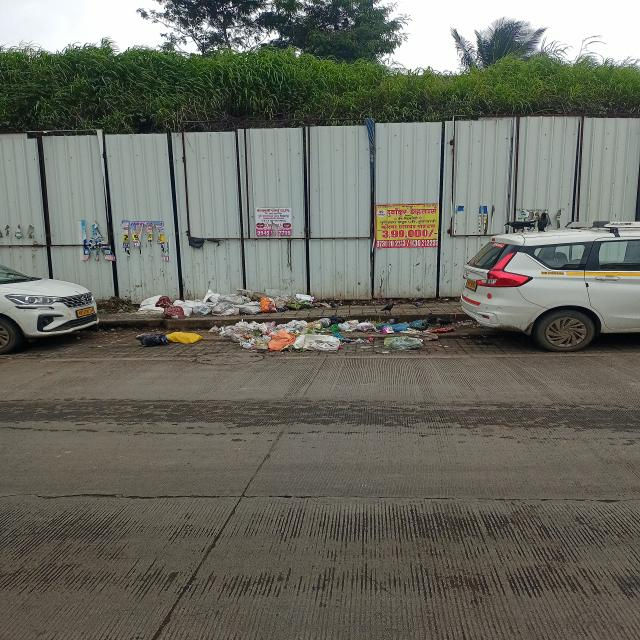garbage: (128, 294, 420, 361)
